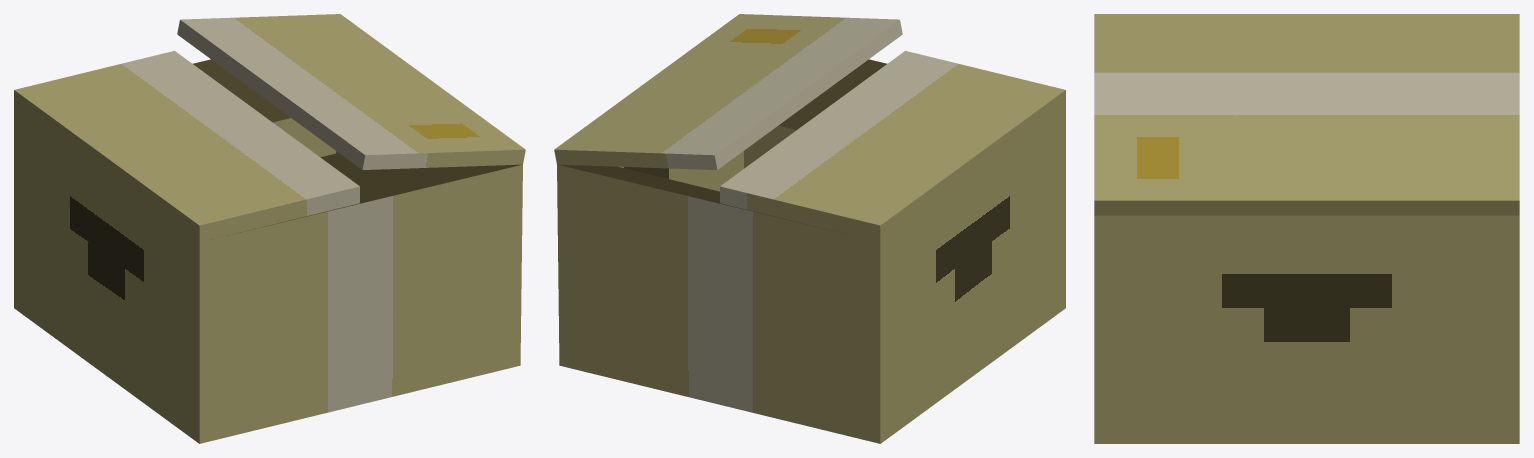
The picture shows the model from 3 angles, left to right: view 1: azimuth 30°, elevation 25°; view 2: azimuth 150°, elevation 25°; view 3: azimuth 270°, elevation 25°; orthographic projection. The views are drawn at different scales.
Visible parts, largest first — view 1: cuboid; view 2: cuboid; view 3: cuboid.
Boxes of the visible parts, x1=… form: cuboid: x1=14, y1=14, x2=525, y2=443; cuboid: x1=554, y1=14, x2=1065, y2=443; cuboid: x1=1094, y1=14, x2=1519, y2=443.
Size of the model in its own units: 31.77 by 23.09 by 31.25.
Materials: 1 (1 with a texture image).
